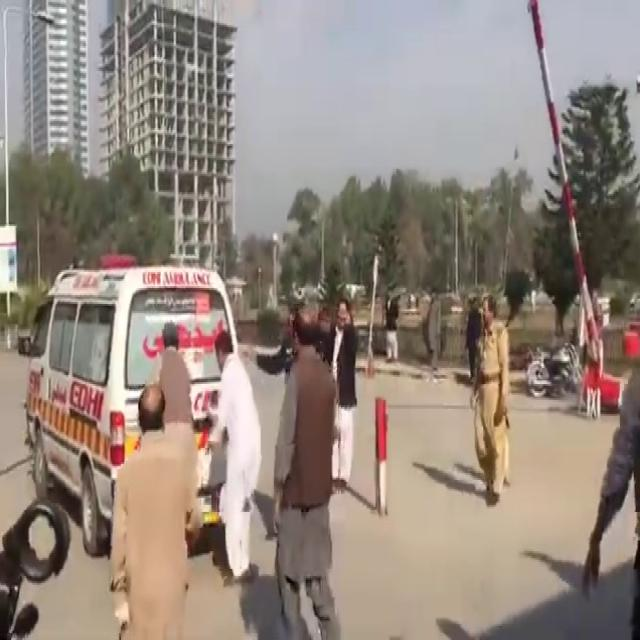ambulance: (29, 252, 271, 520)
